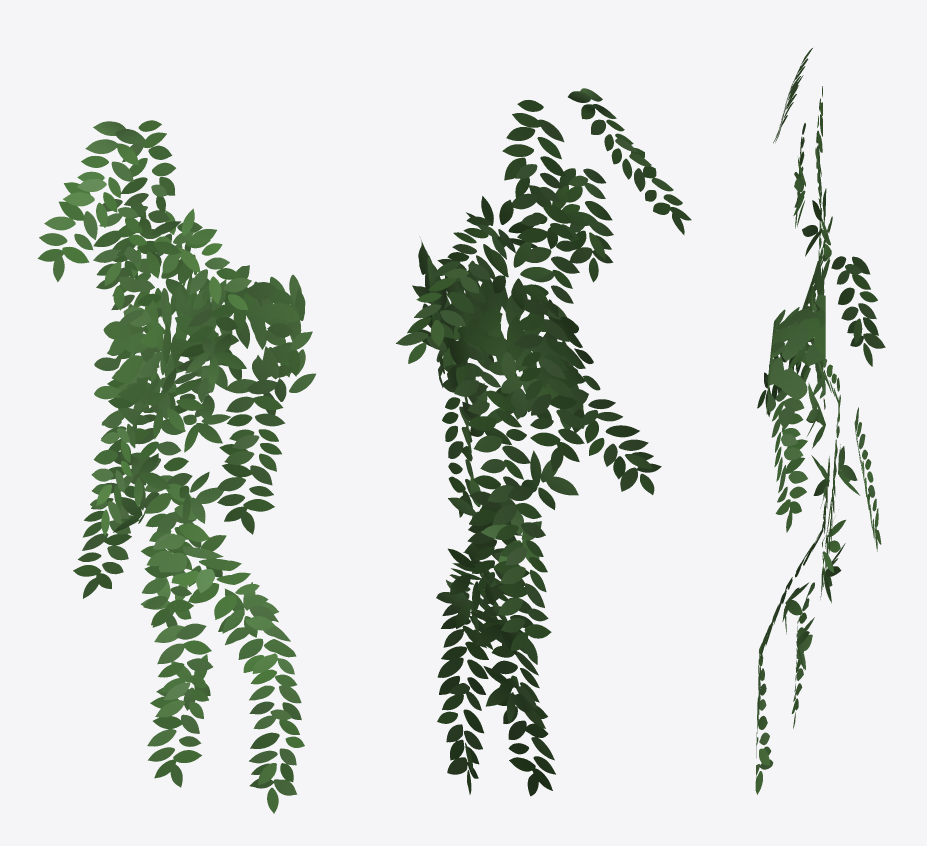
File: SM_Env_Vine_Creeping_06.fbx
3 views of the same model, side by side, from view 1: azimuth 30°, elevation 25°; view 2: azimuth 150°, elevation 25°; view 3: azimuth 270°, elevation 25° (orthographic). The views are drawn at different scales.
Visible parts, largest first — view 1: SM_Env_Vine_Creeping_06_LOD0; view 2: SM_Env_Vine_Creeping_06_LOD0; view 3: SM_Env_Vine_Creeping_06_LOD0.
Boxes of the visible parts, x1,y1,x2,y2 form: SM_Env_Vine_Creeping_06_LOD0: (37,120,315,813); SM_Env_Vine_Creeping_06_LOD0: (396,88,691,796); SM_Env_Vine_Creeping_06_LOD0: (755,48,885,794).
Size of what is drawn, in the model's own units: 150 by 381 by 76.13.
